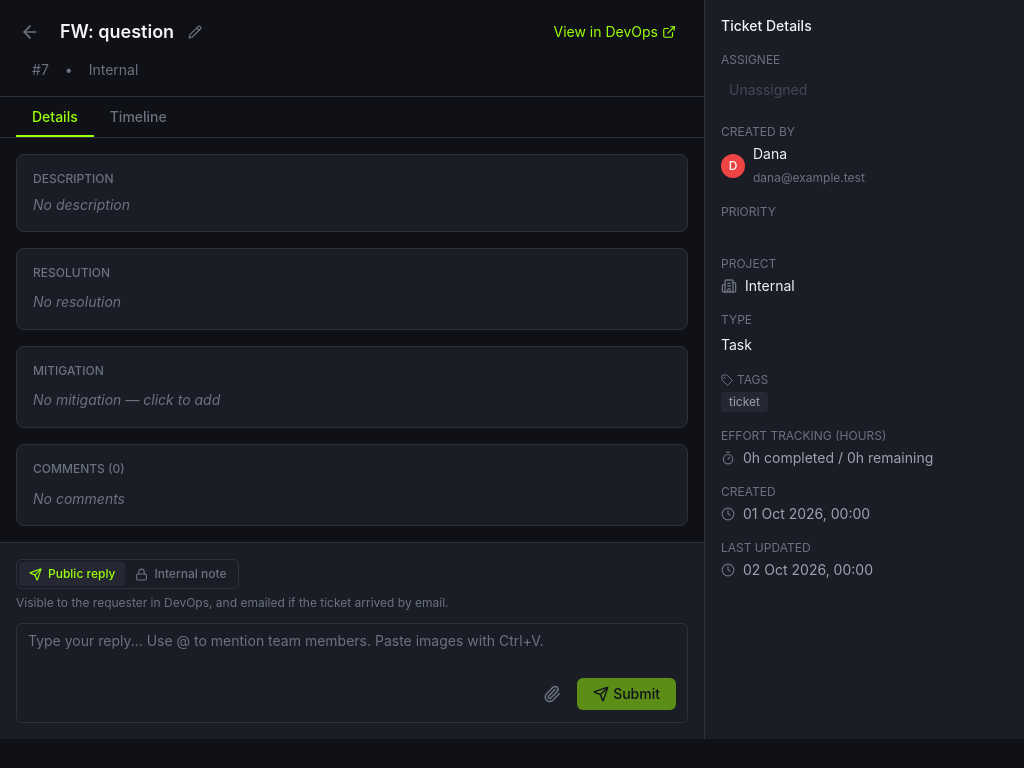
Test: TicketDetail title editing › opens with the current title, ready to be replaced
Click the button named "Edit title".
click(195, 32)  # box left=182, top=19, right=208, bottom=45
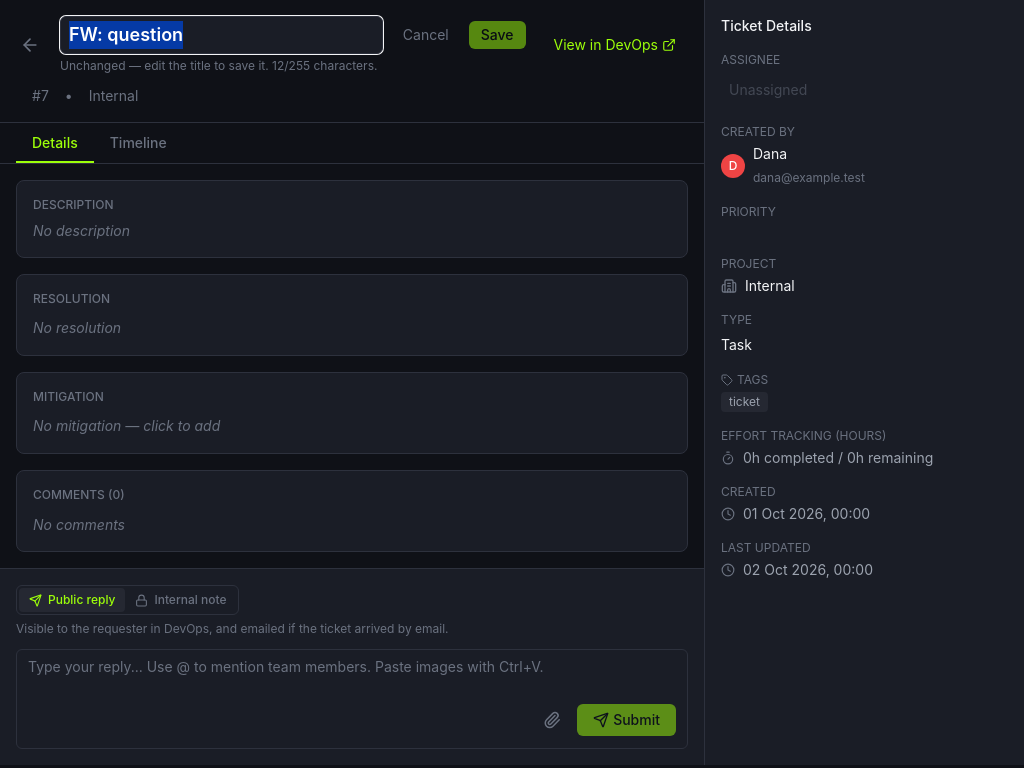
Check: the field named "Ticket title" holds "FW: question", box left=60, top=16, right=383, bottom=54
